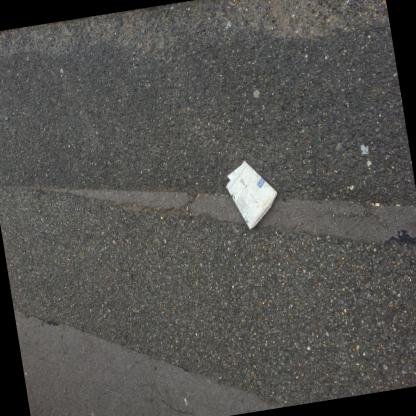Paper: (226, 160, 277, 229)
